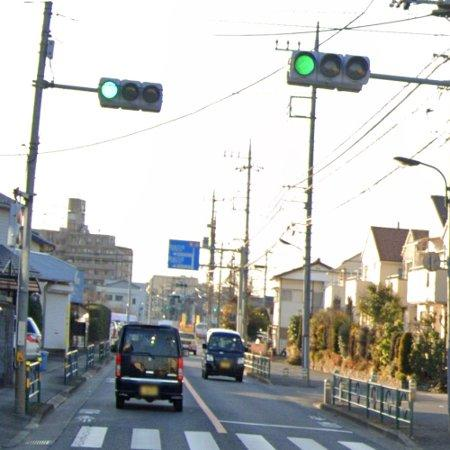crosswalks: (68, 426, 389, 450)
